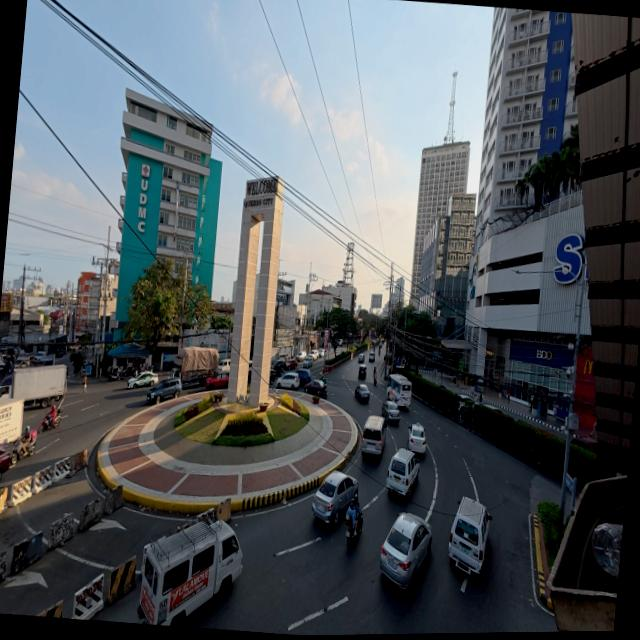bus: (387, 374, 411, 407)
car: (380, 513, 431, 588), (312, 471, 358, 524), (147, 378, 182, 404), (203, 370, 229, 392), (408, 423, 426, 454), (128, 372, 158, 389), (381, 401, 400, 423), (305, 379, 327, 397), (276, 373, 300, 389), (0, 447, 10, 479), (482, 403, 505, 415), (355, 384, 370, 402), (296, 368, 311, 386), (459, 394, 473, 412), (272, 358, 286, 375), (14, 358, 30, 369), (357, 364, 367, 380), (303, 356, 314, 368), (286, 359, 297, 370), (34, 351, 46, 361), (297, 350, 306, 362), (269, 367, 275, 384), (308, 350, 319, 359), (368, 350, 375, 362), (317, 348, 325, 358), (358, 354, 364, 363), (338, 339, 342, 346)
motorcycle: (11, 431, 37, 465), (38, 408, 61, 432), (346, 514, 363, 546), (109, 367, 121, 381), (374, 375, 377, 385)
trucks: (0, 365, 67, 407), (171, 347, 219, 387), (0, 397, 23, 444)
vans: (138, 519, 242, 625), (449, 497, 491, 573), (387, 448, 419, 495), (362, 415, 386, 456), (219, 359, 230, 372)
